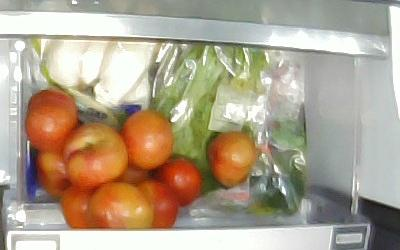prune: (61, 125, 128, 186), (26, 89, 78, 154), (88, 182, 155, 227), (122, 112, 172, 169), (206, 133, 255, 188), (155, 158, 201, 205), (135, 179, 177, 228), (60, 184, 94, 229), (35, 150, 67, 196)
